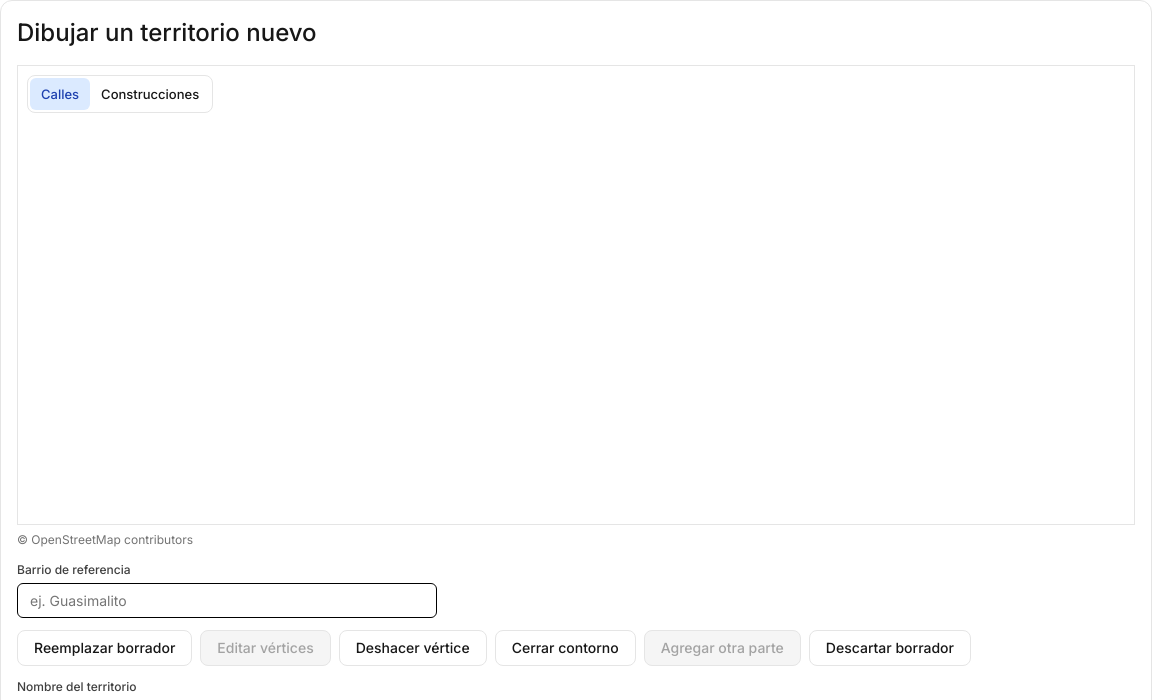
Scenario: TerritoryEditor › multi-part territories (2026-10-03, option A) › offers "Agregar otra parte" only once the current part is closed
expect the button "Agregar otra parte" is disabled: met, box [644, 630, 801, 666]
Click the button "Cerrar contorno": [565, 648] box [495, 630, 636, 666]
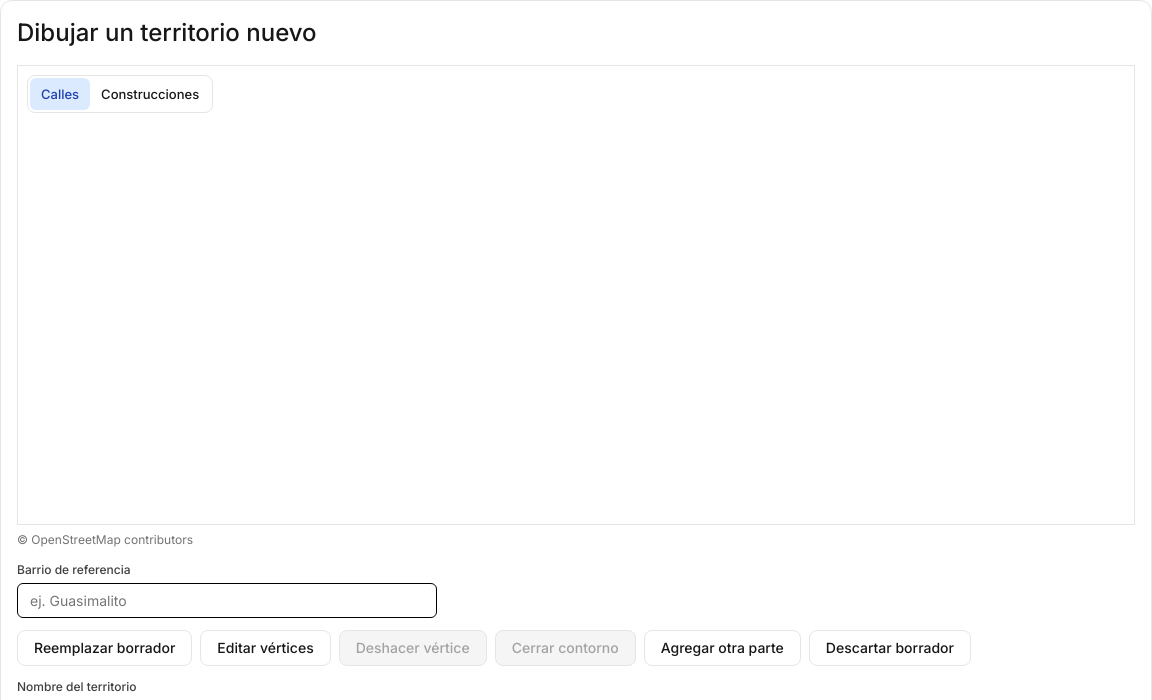
expect the button "Agregar otra parte" is enabled: met, box [644, 630, 801, 666]
